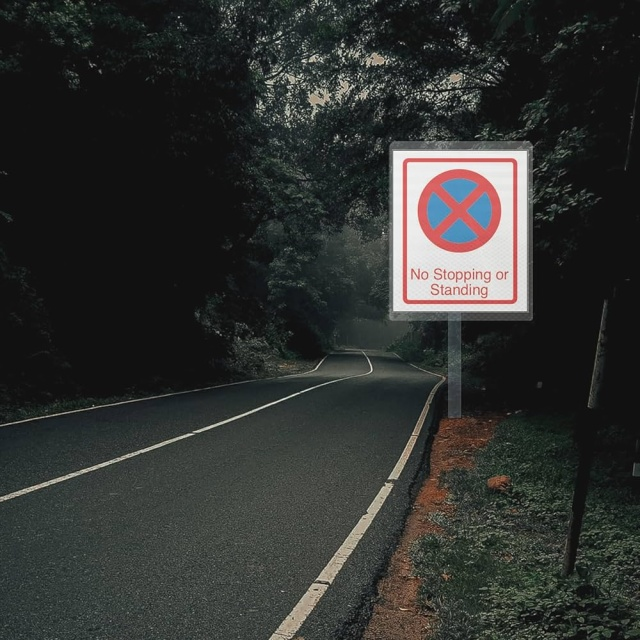Speed_Limit_40: (281, 72, 317, 107)
